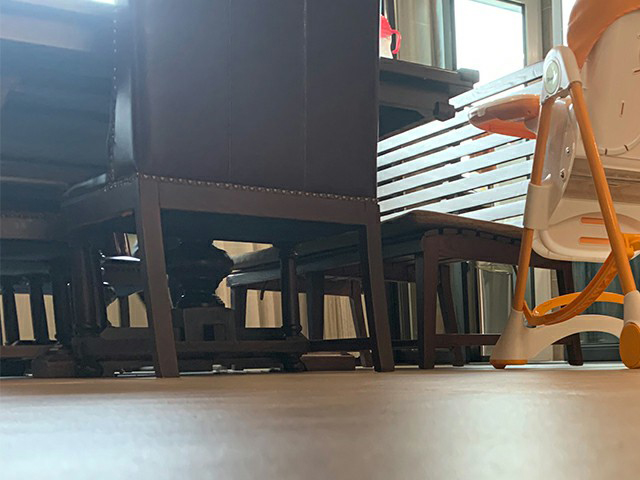stool: (54, 1, 395, 377), (222, 74, 593, 373)
